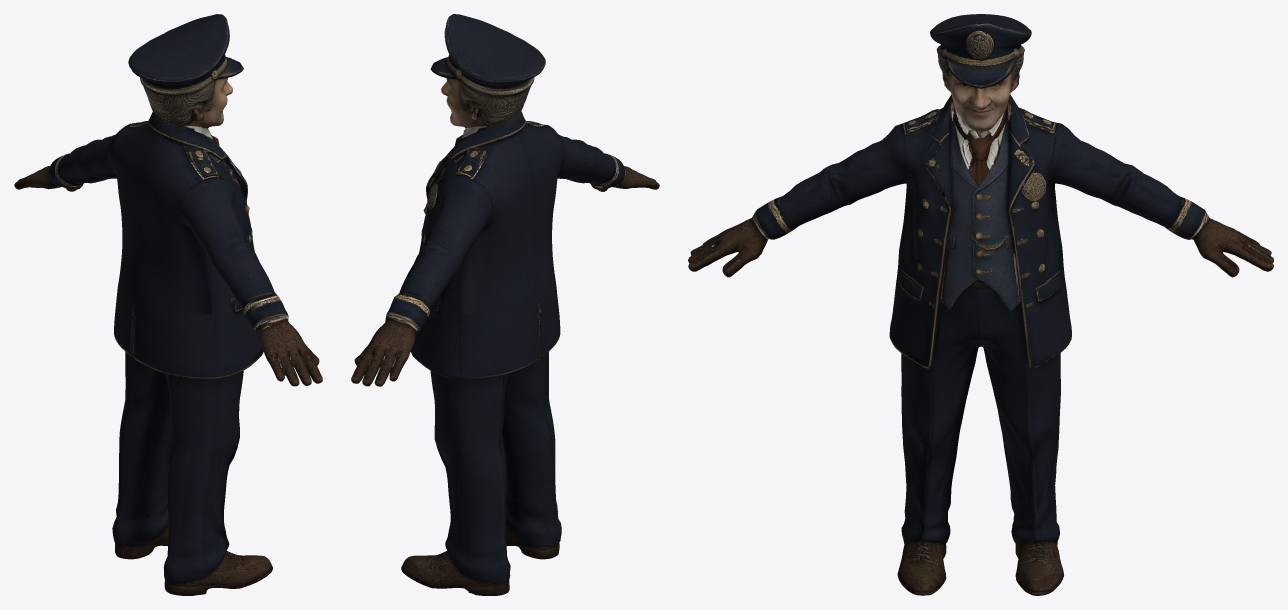
Rendered from 3dai-body.fbx.
3 renders of one model, left to right at view 1: azimuth 30°, elevation 25°; view 2: azimuth 150°, elevation 25°; view 3: azimuth 270°, elevation 25°, orthographic. The views are drawn at different scales.
Parts seen in each view (by area): view 1: tripo_node_8240151c; view 2: tripo_node_8240151c; view 3: tripo_node_8240151c.
Part boxes in pixels (<box>): tripo_node_8240151c: <box>14,14,322,595</box>; tripo_node_8240151c: <box>351,14,659,595</box>; tripo_node_8240151c: <box>688,14,1273,595</box>.
Bounding box in the file's own units: 0.2163 × 0.9995 × 0.9386.
1 material, 1 textured.
